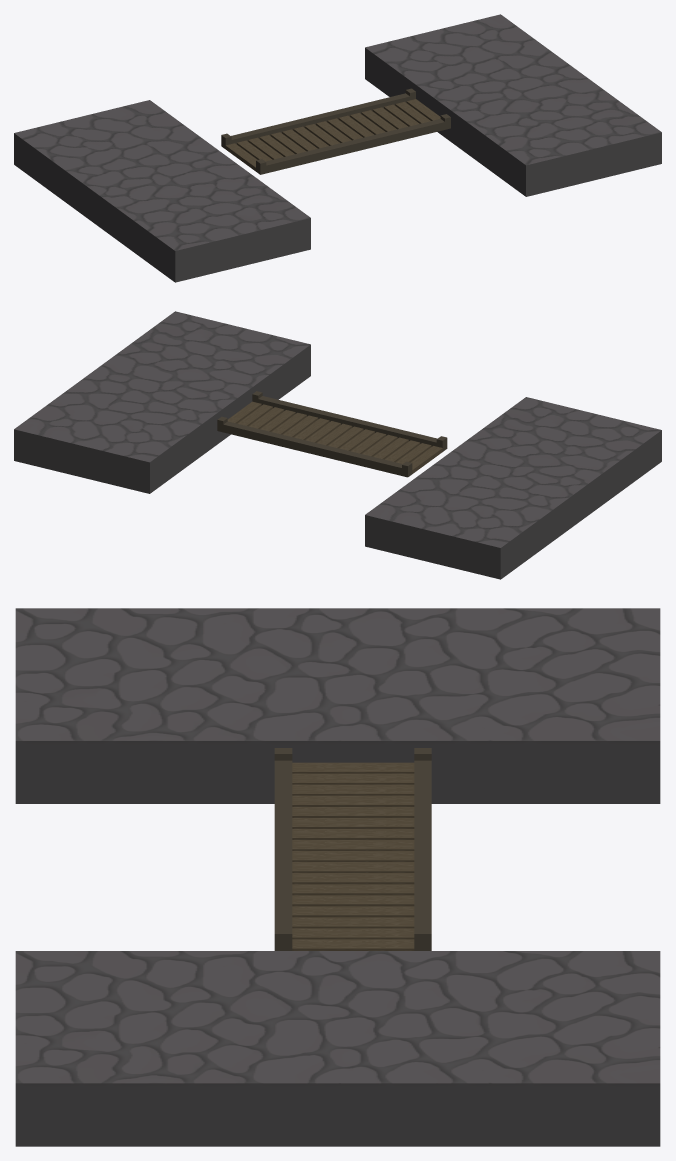
Rendered from New_Map_2.fbx.
3 views of the same model, one above another, from view 1: azimuth 30°, elevation 25°; view 2: azimuth 150°, elevation 25°; view 3: azimuth 270°, elevation 25° (orthographic). The views are drawn at different scales.
Visible parts, largest first — view 1: platform1, platform2, Edge 1.002; view 2: platform1, platform2, Edge 1.002; view 3: platform2, platform1, Edge 1.002.
Boxes of the visible parts, bbox=[...] form: platform1: bbox=[14, 100, 310, 282]; platform2: bbox=[365, 14, 661, 196]; Edge 1.002: bbox=[221, 88, 450, 174]; platform1: bbox=[365, 397, 661, 579]; platform2: bbox=[14, 311, 310, 493]; Edge 1.002: bbox=[217, 391, 447, 477]; platform2: bbox=[15, 951, 660, 1146]; platform1: bbox=[15, 608, 660, 803]; Edge 1.002: bbox=[274, 748, 431, 950].
Size of the model in its own units: 1290 by 88.52 by 740.
